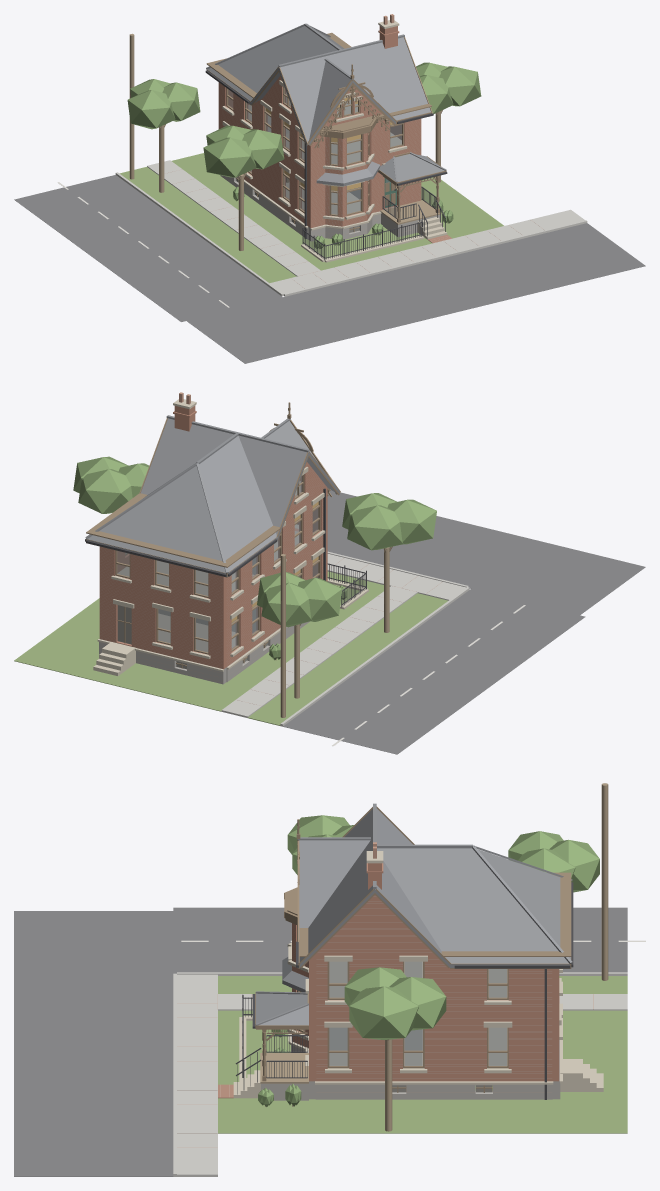
The model's file is clay-toronto-bay-and-gable-house-clay-v001.glb.
The picture shows the model from 3 angles, top to bottom: view 1: azimuth 30°, elevation 25°; view 2: azimuth 150°, elevation 25°; view 3: azimuth 270°, elevation 25°; orthographic projection. The views are drawn at different scales.
Visible parts, largest first — view 1: CLAY_ASPHALT, CLAY_ROOF, CLAY_WALL, CLAY_GRASS, CLAY_PAVING, CLAY_PLANTING, CLAY_TRIM, CLAY_STONE, CLAY_HARDWARE, CLAY_TIMBER, CLAY_FOUNDATION, CLAY_GLASS (+2 smaller); view 2: CLAY_ASPHALT, CLAY_ROOF, CLAY_WALL, CLAY_GRASS, CLAY_PLANTING, CLAY_PAVING, CLAY_TRIM, CLAY_STONE, CLAY_GLASS, CLAY_FOUNDATION, CLAY_TIMBER, CLAY_HARDWARE (+2 smaller); view 3: CLAY_ASPHALT, CLAY_ROOF, CLAY_GRASS, CLAY_WALL, CLAY_PAVING, CLAY_PLANTING, CLAY_TRIM, CLAY_STONE, CLAY_JOINT, CLAY_FOUNDATION, CLAY_TIMBER, CLAY_GLASS (+3 smaller).
Boxes of the visible parts, x1,y1,x2,y2 form: CLAY_ASPHALT: [14, 175, 645, 363]; CLAY_ROOF: [206, 23, 446, 186]; CLAY_WALL: [218, 76, 421, 227]; CLAY_GRASS: [119, 153, 503, 283]; CLAY_PAVING: [115, 160, 587, 296]; CLAY_PLANTING: [127, 62, 481, 248]; CLAY_TRIM: [206, 32, 446, 232]; CLAY_STONE: [222, 20, 447, 262]; CLAY_HARDWARE: [205, 70, 447, 260]; CLAY_TIMBER: [129, 33, 448, 250]; CLAY_FOUNDATION: [220, 175, 440, 241]; CLAY_GLASS: [228, 89, 401, 232]; CLAY_ASPHALT: [283, 490, 645, 754]; CLAY_ROOF: [85, 415, 339, 576]; CLAY_WALL: [99, 462, 327, 669]; CLAY_GRASS: [14, 571, 447, 725]; CLAY_PLANTING: [73, 456, 436, 660]; CLAY_PAVING: [221, 551, 469, 726]; CLAY_TRIM: [86, 402, 340, 669]; CLAY_STONE: [93, 399, 368, 675]; CLAY_GLASS: [117, 476, 318, 669]; CLAY_FOUNDATION: [99, 621, 309, 684]; CLAY_TIMBER: [275, 546, 392, 717]; CLAY_HARDWARE: [85, 488, 366, 607]; CLAY_ASPHALT: [14, 907, 627, 1176]; CLAY_ROOF: [255, 803, 572, 1025]; CLAY_GRASS: [218, 976, 627, 1133]; CLAY_WALL: [292, 895, 559, 1081]; CLAY_PAVING: [173, 972, 627, 1176]; CLAY_PLANTING: [258, 815, 599, 1106]; CLAY_TRIM: [255, 806, 571, 1092]; CLAY_STONE: [233, 851, 603, 1098]; CLAY_JOINT: [177, 896, 593, 1147]; CLAY_FOUNDATION: [261, 1025, 560, 1100]; CLAY_TIMBER: [260, 783, 608, 1131]; CLAY_GLASS: [304, 961, 506, 1092].
Bounding box in the file's own units: 27.95 × 12.07 × 27.75.
